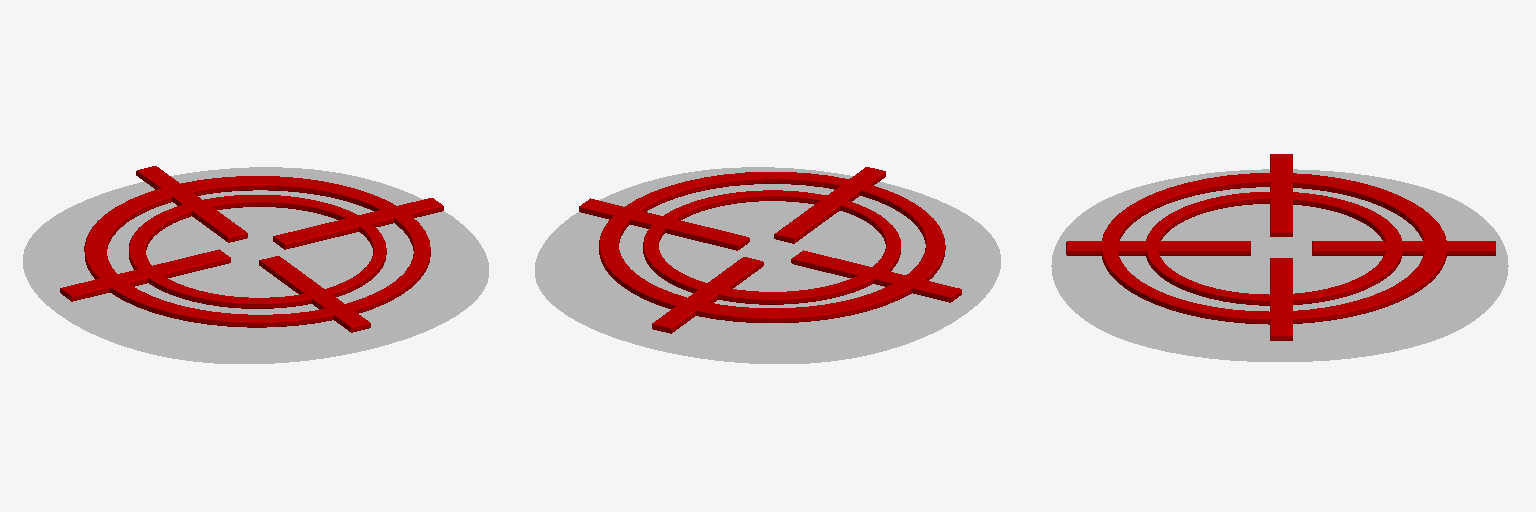
Rendered from seleccion2.obj.
3 renders of one model, left to right at view 1: azimuth 30°, elevation 25°; view 2: azimuth 150°, elevation 25°; view 3: azimuth 270°, elevation 25°, orthographic.
Visible parts, largest first — view 1: Plane_Plane.001, Curve.000_path2991.002; view 2: Plane_Plane.001, Curve.000_path2991.002; view 3: Plane_Plane.001, Curve.000_path2991.002.
Boxes of the visible parts, box(x1,y1,x2,y2) form: Plane_Plane.001: box(23, 167, 488, 363); Curve.000_path2991.002: box(60, 166, 443, 332); Plane_Plane.001: box(535, 167, 1000, 363); Curve.000_path2991.002: box(579, 167, 961, 333); Plane_Plane.001: box(1051, 169, 1508, 361); Curve.000_path2991.002: box(1066, 154, 1495, 340).
Bounding box in the file's own units: 8.82 × 0.4175 × 8.82.